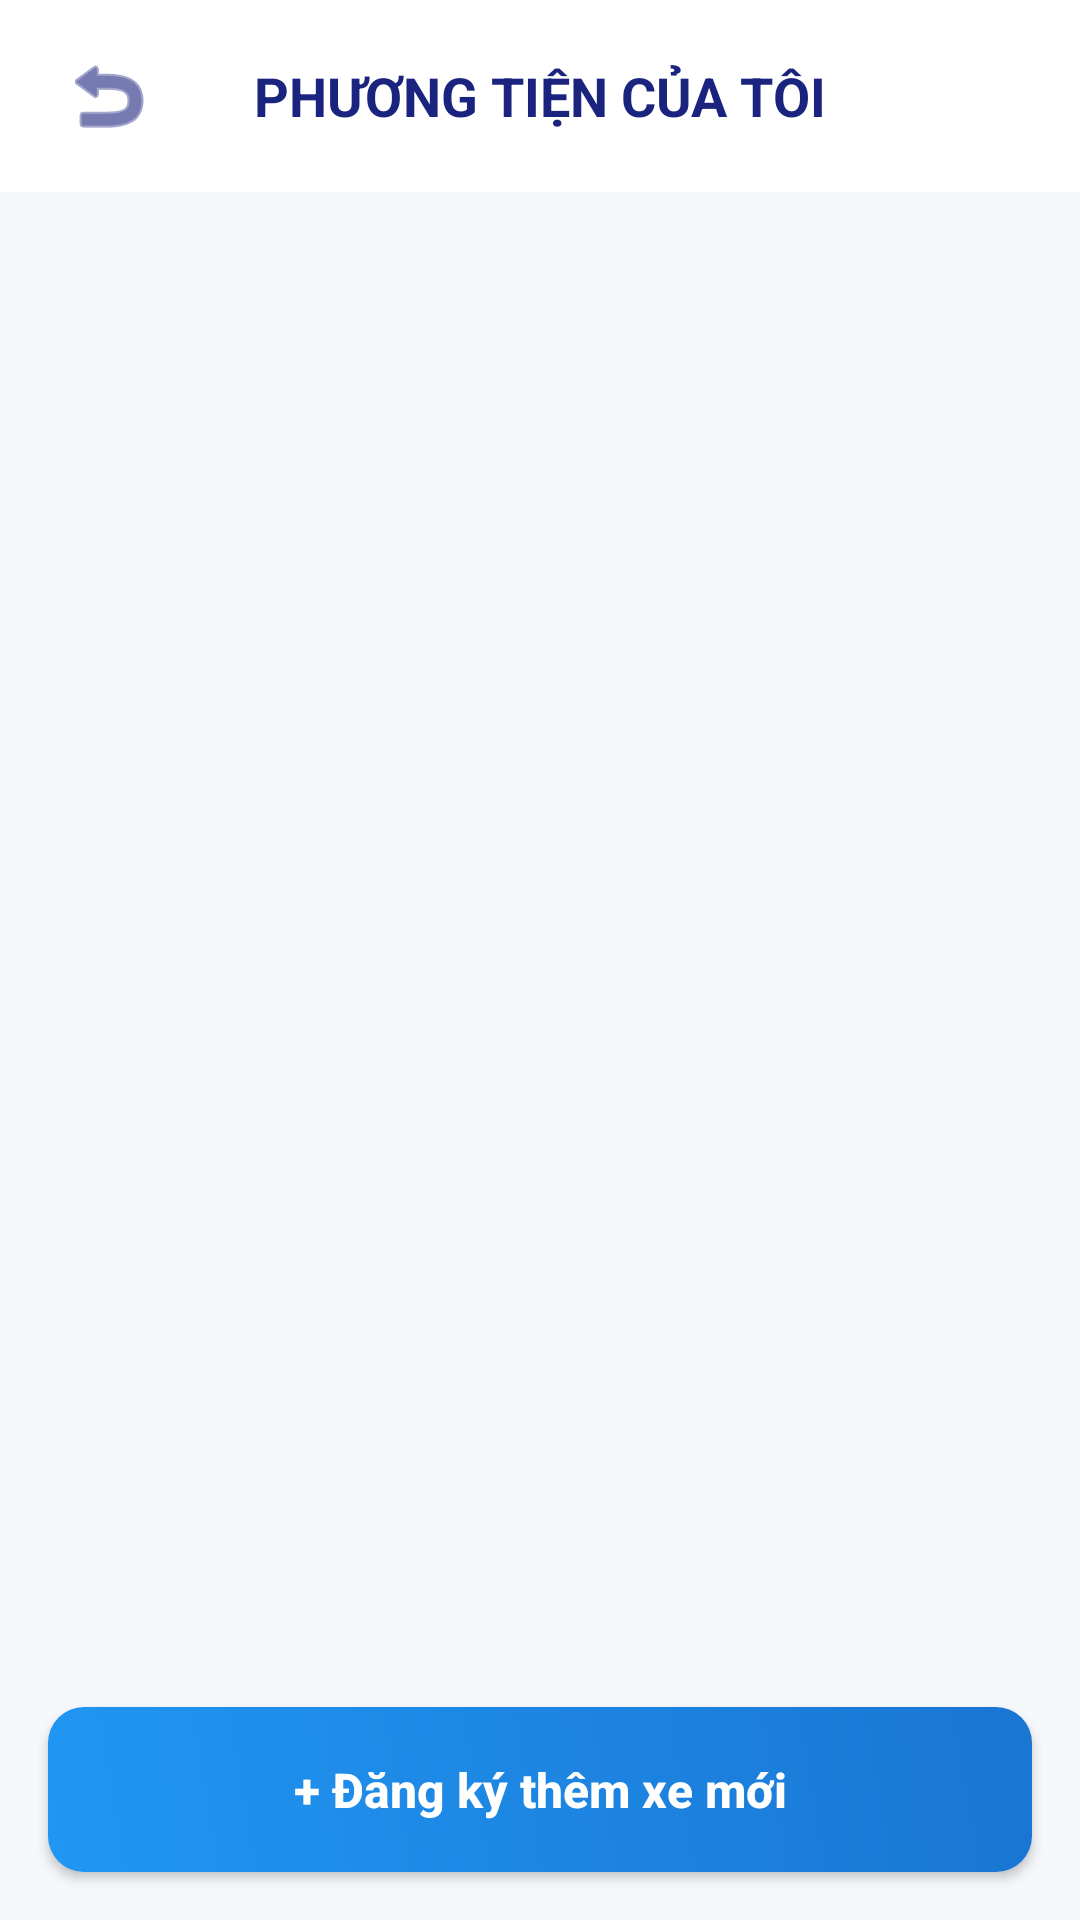

Screen size 1080*1920. Icon name, then its center in pixels as point (x, y):
revert: point (109, 96)
